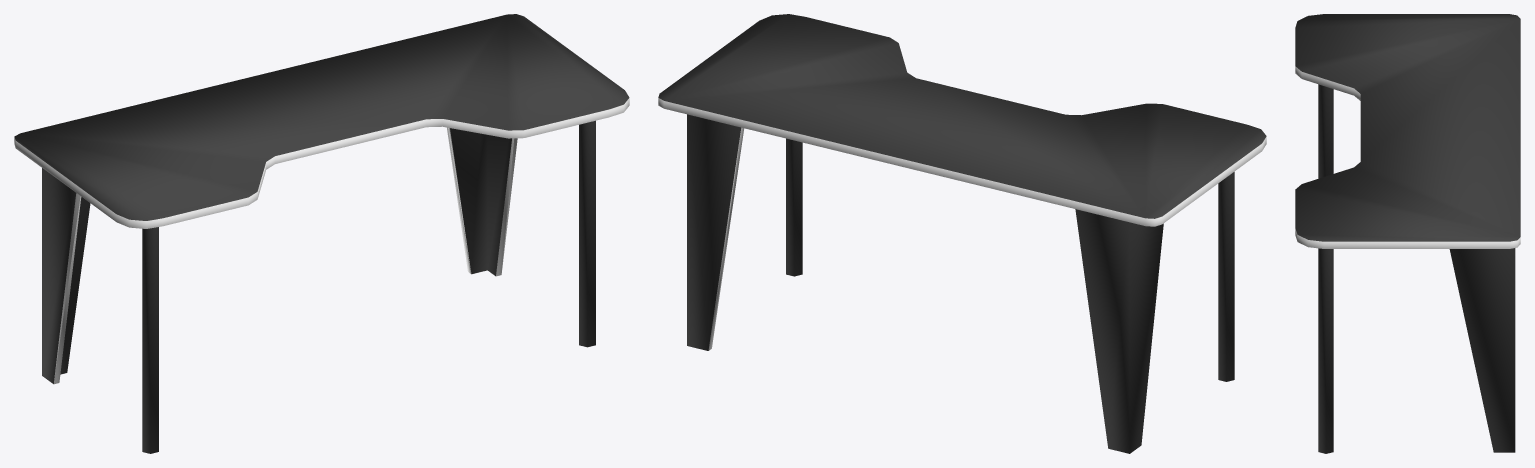
File: desk_2.0.glb
The picture shows the model from 3 angles, left to right: view 1: azimuth 30°, elevation 25°; view 2: azimuth 150°, elevation 25°; view 3: azimuth 270°, elevation 25°; orthographic projection. The views are drawn at different scales.
Visible parts, largest first — view 1: Red_trim, table_trim, Table.001, office_table_001.001; view 2: Red_trim, table_trim; view 3: Red_trim, table_trim.
Part boxes in pixels (x1,y1,x2,y2): Red_trim: (14, 14, 629, 453); table_trim: (14, 98, 629, 228); Table.001: (54, 127, 514, 384); office_table_001.001: (54, 128, 517, 378); Red_trim: (658, 14, 1266, 453); table_trim: (658, 98, 1266, 226); Red_trim: (1295, 14, 1520, 453); table_trim: (1295, 66, 1520, 248).
Bounding box in the file's own units: 1.58 × 0.7293 × 0.663.
Materials: 1 (1 with a texture image).
